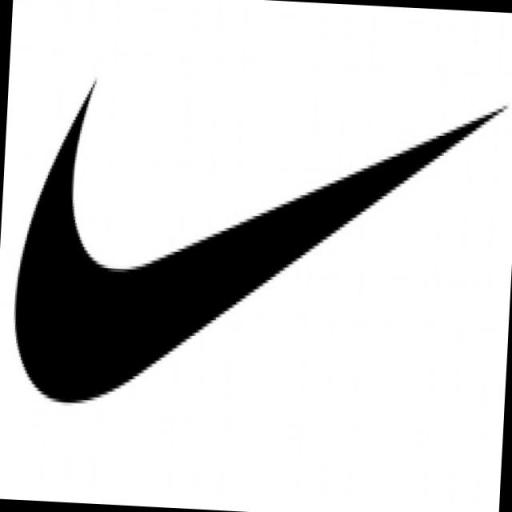Nike: (7, 74, 512, 424)
